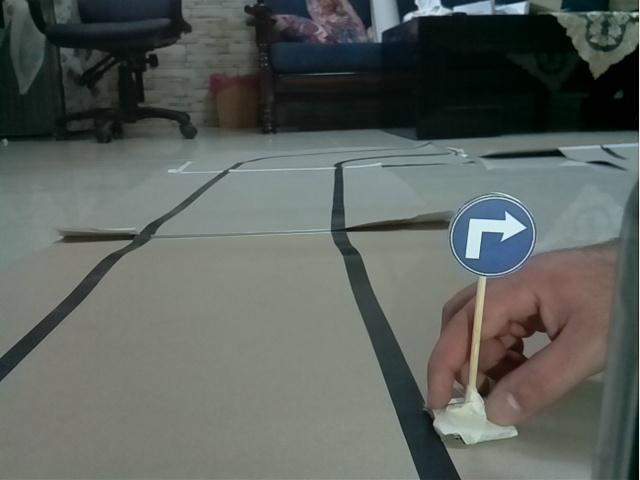turn: (447, 189, 539, 279)
